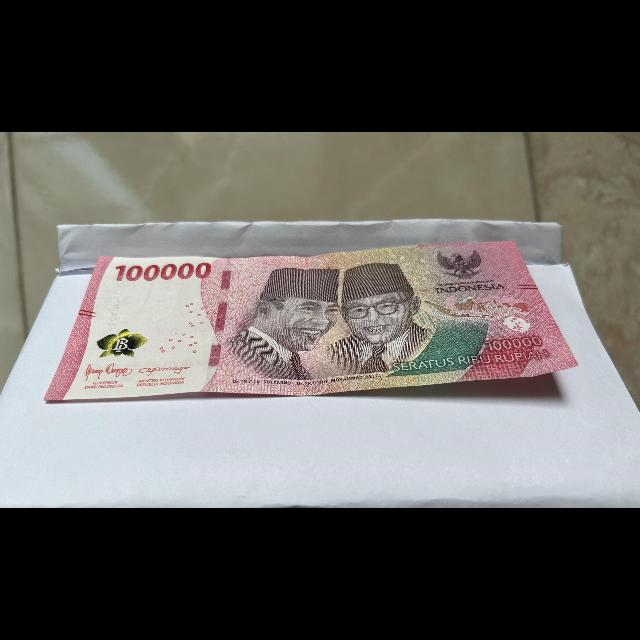Asli-100k: (34, 236, 595, 405)
Tinta-Asli-100k: (90, 328, 151, 359)
